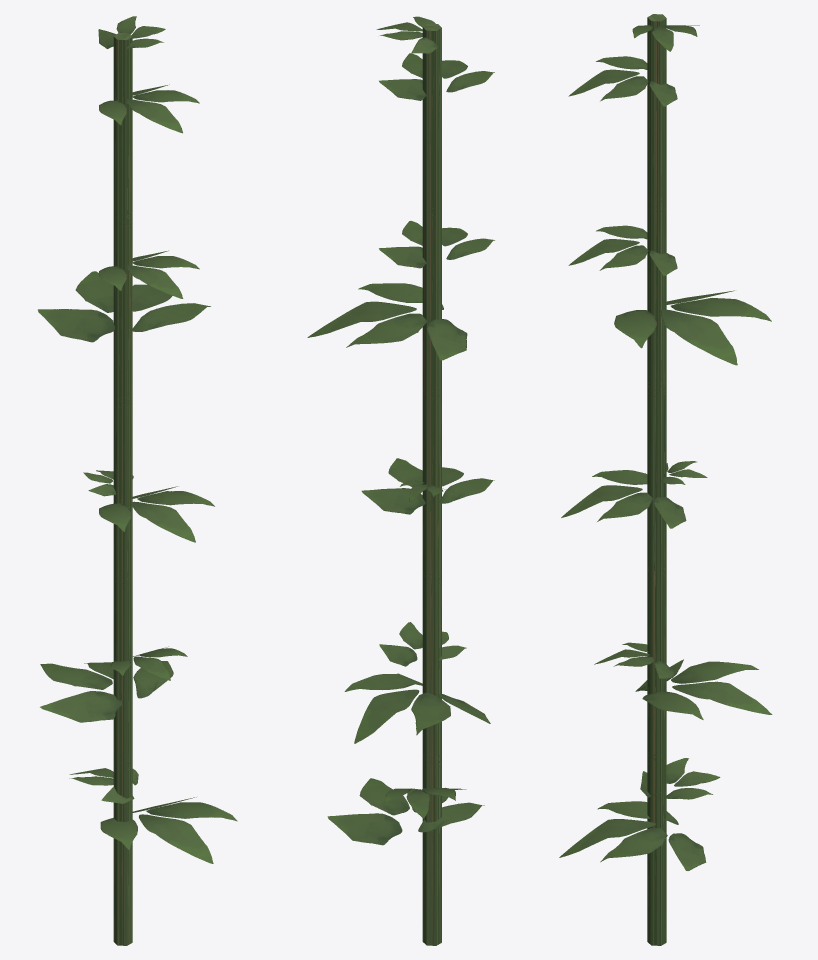
The model's file is bamboo4.fbx.
3 renders of one model, left to right at view 1: azimuth 30°, elevation 25°; view 2: azimuth 150°, elevation 25°; view 3: azimuth 270°, elevation 25°, orthographic. The views are drawn at different scales.
Parts seen in each view (by area): view 1: Plane.014; view 2: Plane.014; view 3: Plane.014.
Part boxes in pixels (x1,y1,x2,y2): Plane.014: (38,16,237,945); Plane.014: (307,16,494,945); Plane.014: (559,14,772,945).
Size of the model in its own units: 281 by 1157 by 281.
